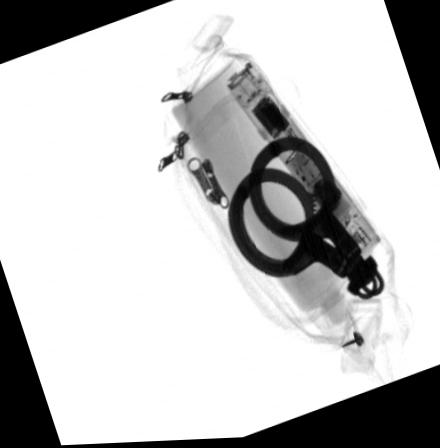Baton: (222, 64, 382, 272)
HandCuffs: (224, 137, 387, 305)
